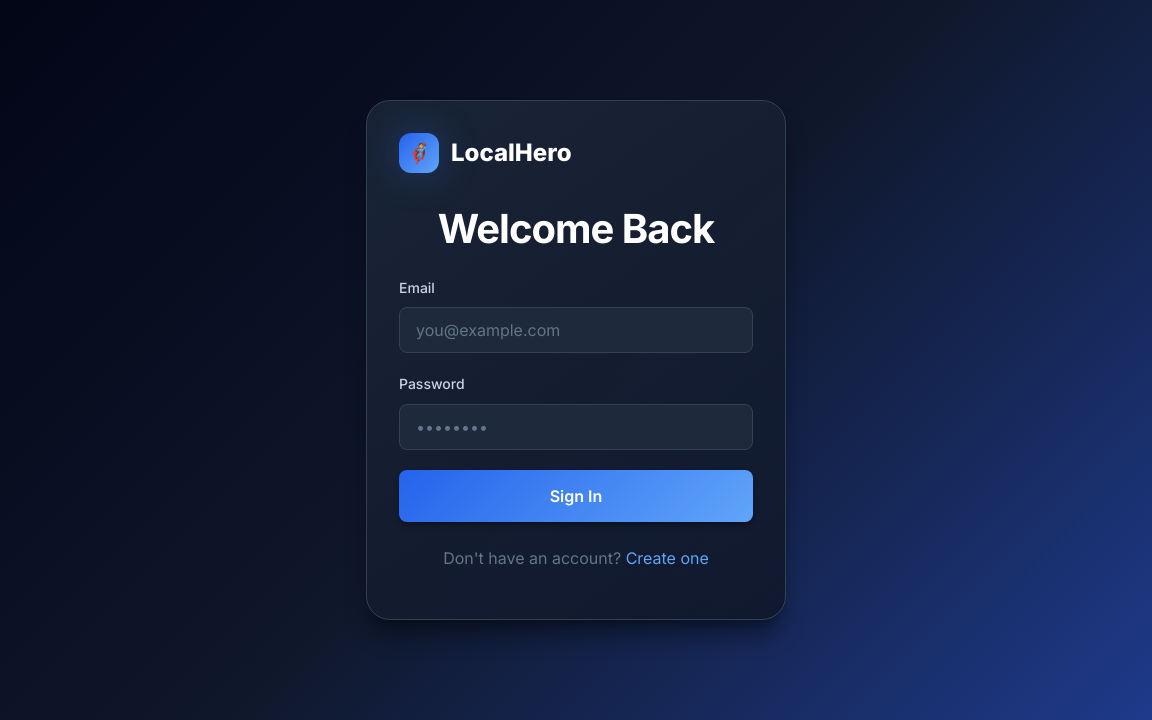
Test: Login › shows error on failed login
This screenshot has width=1152, height=720.
In the field labelled "Email": (576, 330) [399,307,753,353], type "test@example.com"
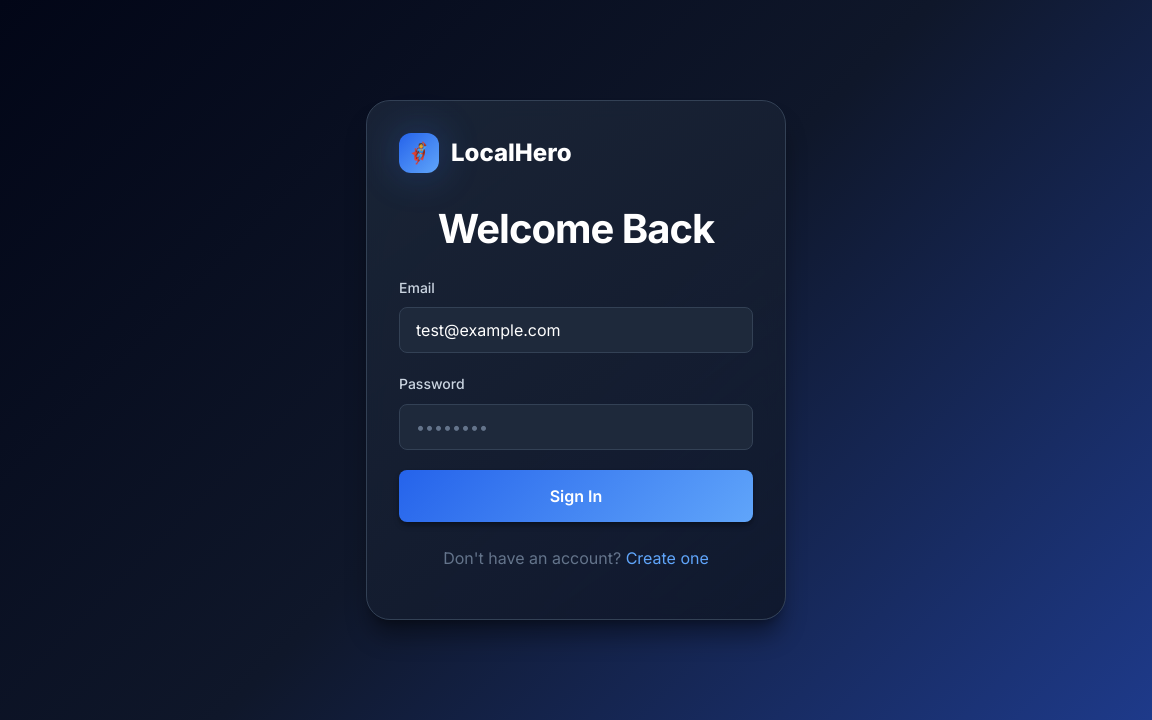
In the password field labelled "Password": (576, 427) [399,404,753,450], type "wrongpassword"
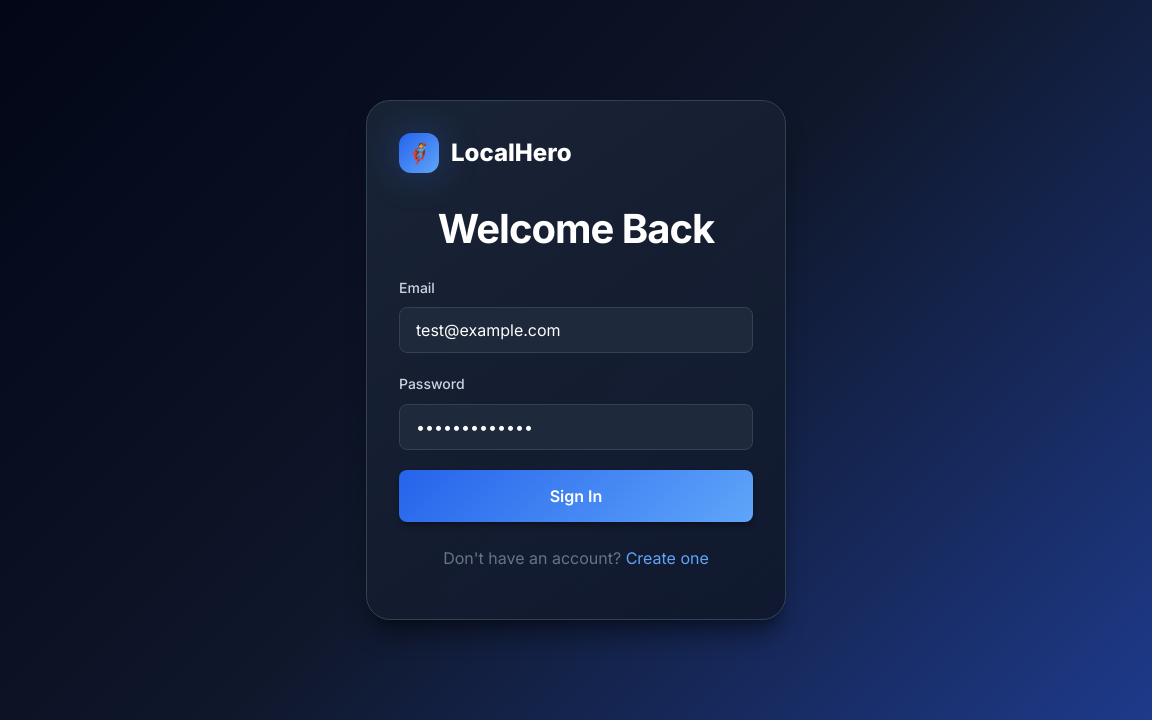
Click the button "Sign In": (576, 496) [399,470,753,522]
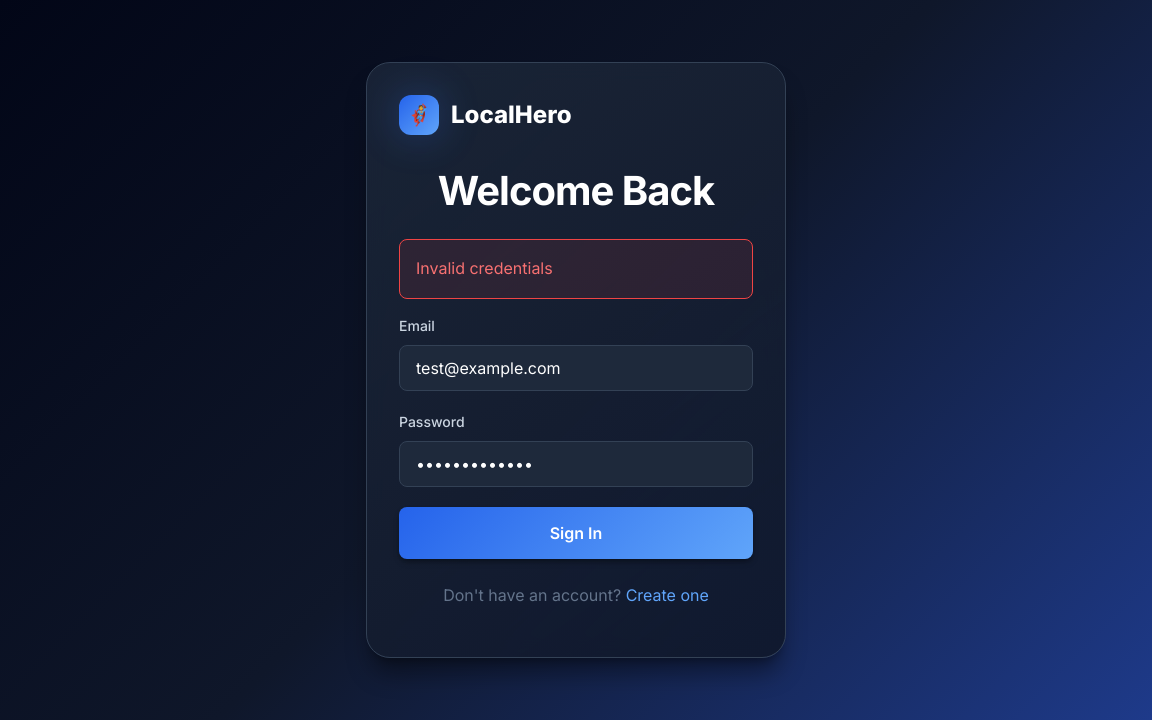
expect the text "Invalid credentials" is shown: met, box [399,239,753,299]
